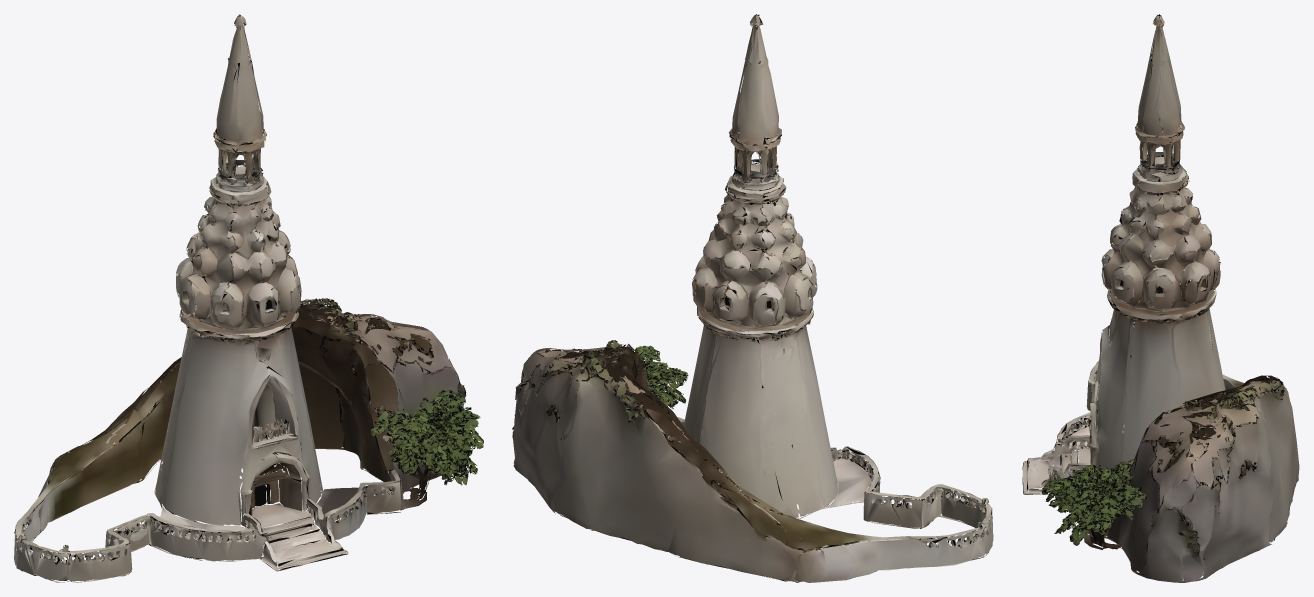
Rendered from utapau-ossic.hq.glb.
3 renders of one model, left to right at view 1: azimuth 30°, elevation 25°; view 2: azimuth 150°, elevation 25°; view 3: azimuth 270°, elevation 25°, orthographic. The views are drawn at different scales.
Parts seen in each view (by area): view 1: low; view 2: low; view 3: low.
Part boxes in pixels (box(x1,y1,x2,y2)): low: box(14, 14, 483, 582); low: box(512, 14, 993, 582); low: box(1022, 14, 1299, 582).
Bounding box in the file's own units: 0.9664 × 1.01 × 0.5423.
1 material, 1 textured.
